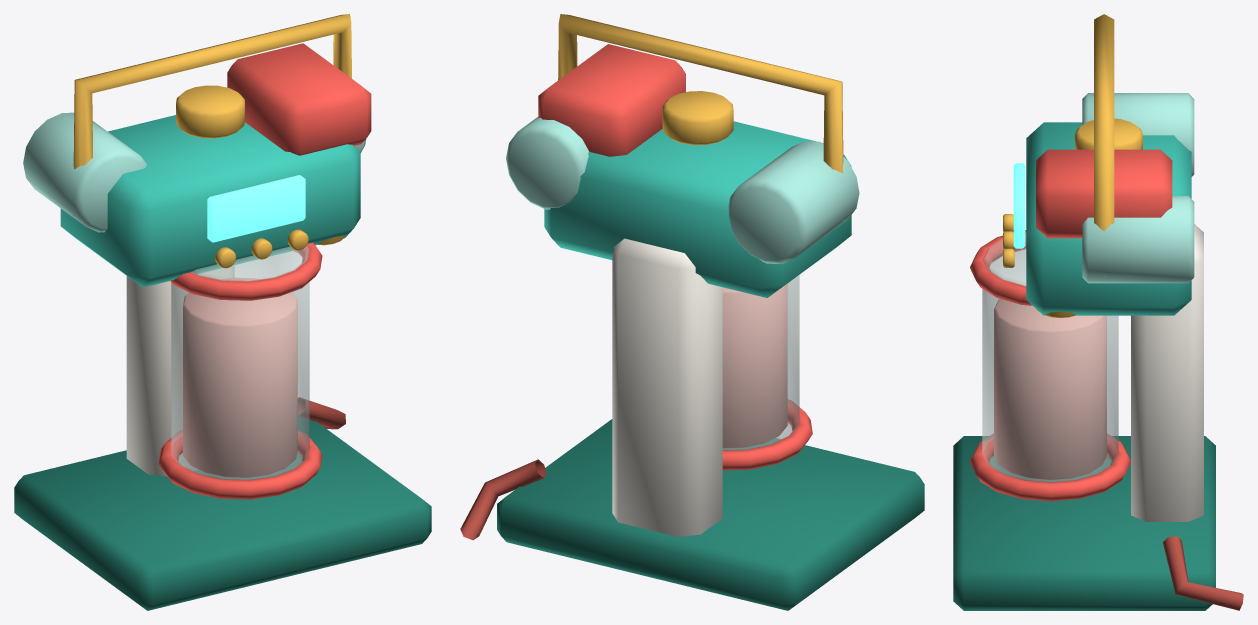
The model's file is auto_shaker.glb.
The picture shows the model from 3 angles, left to right: view 1: azimuth 30°, elevation 25°; view 2: azimuth 150°, elevation 25°; view 3: azimuth 270°, elevation 25°; orthographic projection. The views are drawn at different scales.
Visible parts, largest first — view 1: Base_MintDark, Base_Glass, Base_Mint, Base_CoralSoft, L2_Coral, Base_Cream, L3_MintSoft, Base_Coral, L3_Gold, Base_Screen.001, L2_Gold, Base_Gold (+1 smaller); view 2: Base_MintDark, Base_Cream, Base_Mint, L3_MintSoft, Base_Glass, L2_Coral, Base_CoralSoft, L3_Gold, L2_Gold, Base_Coral, Base_CoralDark; view 3: Base_MintDark, Base_Glass, Base_CoralSoft, Base_Cream, L3_MintSoft, Base_Mint, L2_Coral, Base_Coral, L3_Gold, Base_CoralDark, L2_Gold, Base_Screen.001 (+1 smaller).
Boxes of the visible parts, left/top/right/bottom form: Base_MintDark: left=14, top=416, right=431, bottom=610; Base_Glass: left=171, top=246, right=309, bottom=480; Base_Mint: left=60, top=115, right=360, bottom=287; Base_CoralSoft: left=183, top=277, right=297, bottom=477; L2_Coral: left=227, top=43, right=371, bottom=155; Base_Cream: left=126, top=265, right=234, bottom=476; L3_MintSoft: left=23, top=112, right=366, bottom=232; Base_Coral: left=158, top=242, right=322, bottom=499; L3_Gold: left=73, top=14, right=351, bottom=215; Base_Screen.001: left=207, top=175, right=305, bottom=242; L2_Gold: left=176, top=85, right=344, bottom=245; Base_Gold: left=215, top=229, right=308, bottom=268; Base_MintDark: left=497, top=419, right=924, bottom=610; Base_Cream: left=612, top=238, right=722, bottom=536; Base_Mint: left=544, top=121, right=851, bottom=297; L3_MintSoft: left=506, top=117, right=859, bottom=263; Base_Glass: left=722, top=275, right=799, bottom=450; L2_Coral: left=538, top=44, right=685, bottom=156; Base_CoralSoft: left=722, top=283, right=787, bottom=448; L3_Gold: left=558, top=14, right=843, bottom=220; L2_Gold: left=662, top=91, right=733, bottom=145; Base_Coral: left=722, top=399, right=812, bottom=470; Base_CoralDark: left=460, top=459, right=546, bottom=540; Base_MintDark: left=953, top=436, right=1215, bottom=610; Base_Glass: left=982, top=232, right=1118, bottom=482; Base_CoralSoft: left=994, top=299, right=1106, bottom=480; Base_Cream: left=1131, top=224, right=1203, bottom=521; L3_MintSoft: left=1082, top=93, right=1194, bottom=283; Base_Mint: left=1026, top=122, right=1191, bottom=315; L2_Coral: left=1036, top=149, right=1172, bottom=238; Base_Coral: left=970, top=230, right=1130, bottom=501; L3_Gold: left=1094, top=14, right=1114, bottom=276; Base_CoralDark: left=1163, top=536, right=1243, bottom=610; L2_Gold: left=1036, top=118, right=1142, bottom=318; Base_Screen.001: left=1013, top=163, right=1025, bottom=248.
Bounding box in the file's own units: 0.3686 × 0.5285 × 0.2984.
